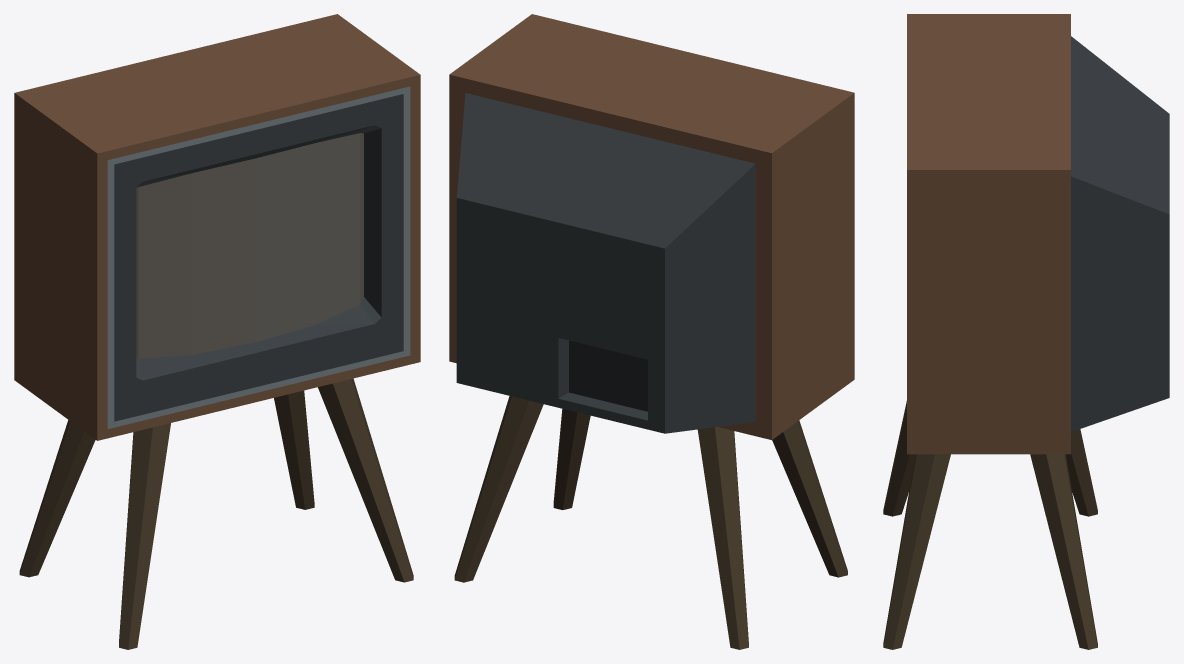
File: SM_Prop_Electronics_Tv_05.glb
3 renders of one model, left to right at view 1: azimuth 30°, elevation 25°; view 2: azimuth 150°, elevation 25°; view 3: azimuth 270°, elevation 25°, orthographic.
Visible parts, largest first — view 1: SM_Prop_Electronics_Tv_05; view 2: SM_Prop_Electronics_Tv_05; view 3: SM_Prop_Electronics_Tv_05.
Boxes of the visible parts, x1,y1,x2,y2 form: SM_Prop_Electronics_Tv_05: (14,14,420,649); SM_Prop_Electronics_Tv_05: (449,14,854,649); SM_Prop_Electronics_Tv_05: (883,14,1169,649).
Size of the model in its own units: 0.7072 by 1.03 by 0.5485.
1 material, 1 textured.
